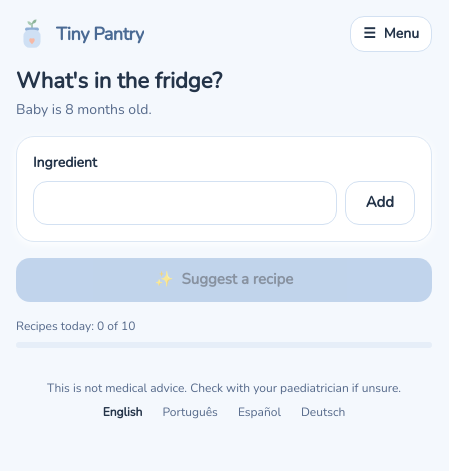
Test case: switching language on the recipe screen swaps the text
Click the button "☰ Menu" at (391, 34), box [350,16,432,52]
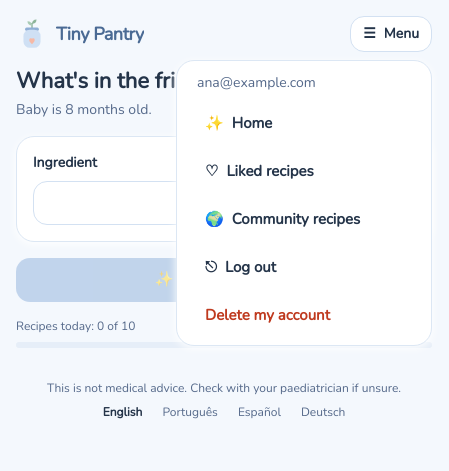
Click the button "♡ Liked recipes" at (304, 171), box [185,149,423,193]
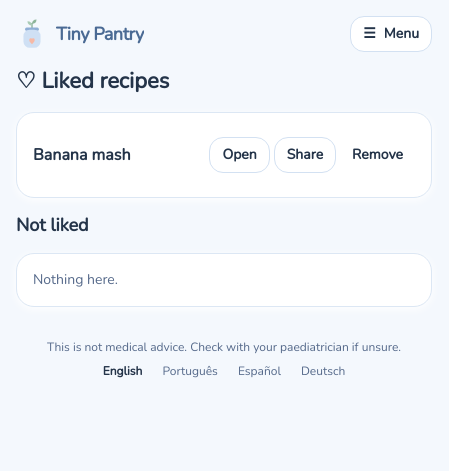
Click the button with aria-label "Open Banana mash" at (240, 154), box [209,136,270,172]
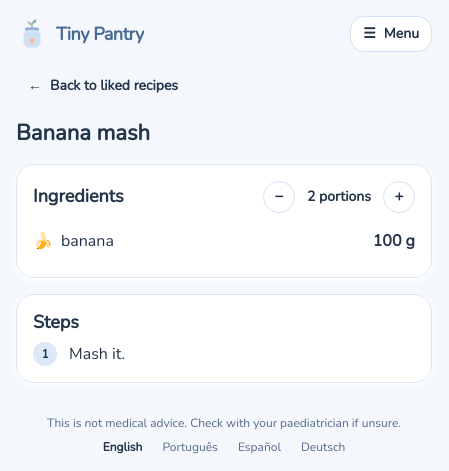
expect the heading "Banana mash" is shown: met, box [16,118,150,148]
expect the text "Mash it." is shown: met, box [69,342,125,366]
